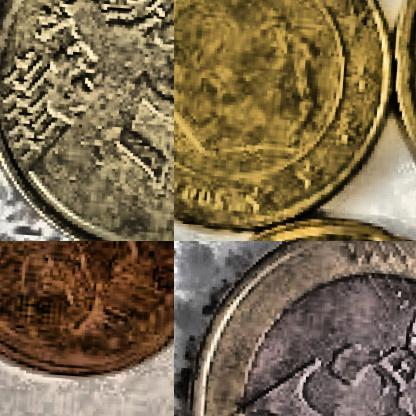coin: (174, 0, 403, 236), (174, 241, 415, 415), (0, 0, 173, 240), (0, 241, 173, 392)
